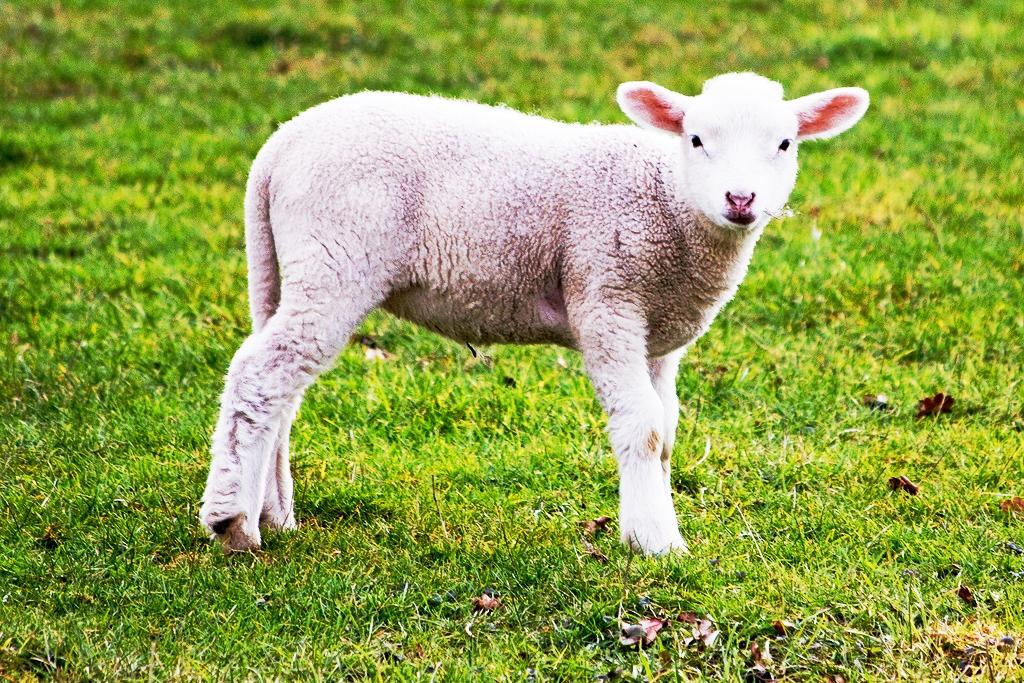Sheep: (174, 63, 901, 574)
